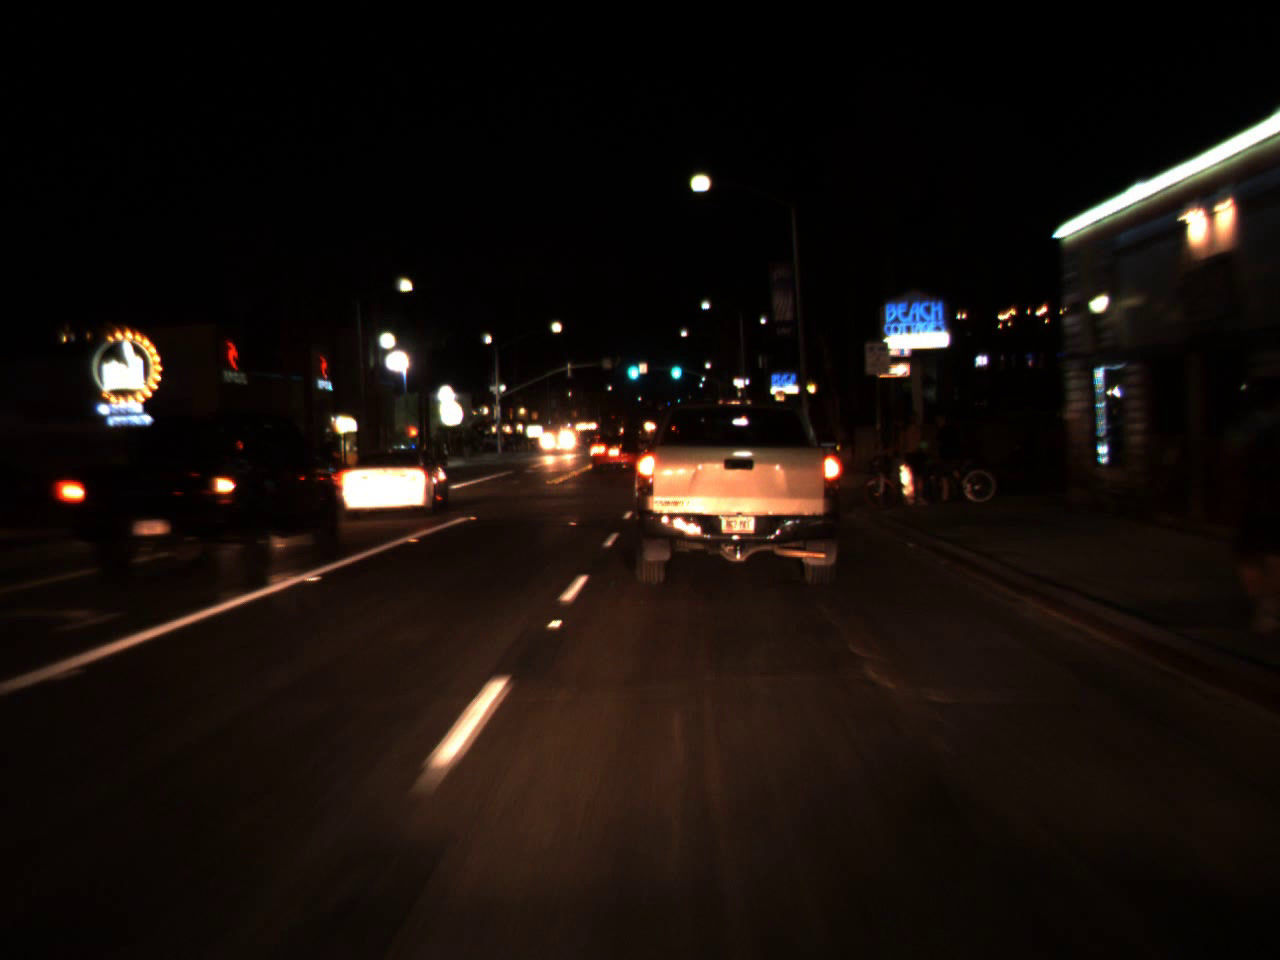go: (622, 349, 643, 385), (667, 352, 683, 382)
